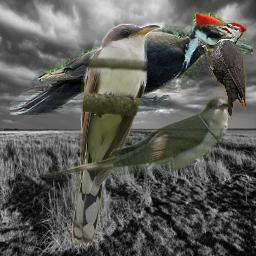Cuckoo: (72, 23, 162, 245), (45, 96, 229, 180)
Woodpecker: (10, 12, 253, 115), (198, 23, 247, 120)
